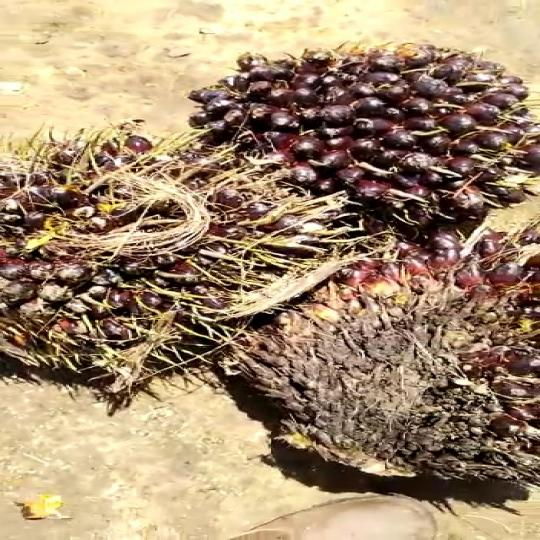mentah: (0, 116, 365, 379), (250, 208, 540, 505), (179, 32, 540, 226)
